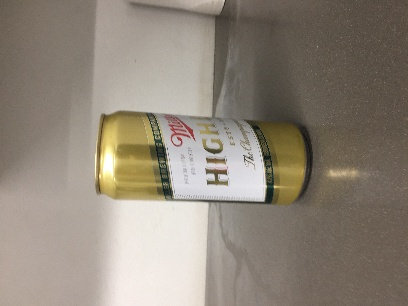ML: (69, 78, 227, 151)
